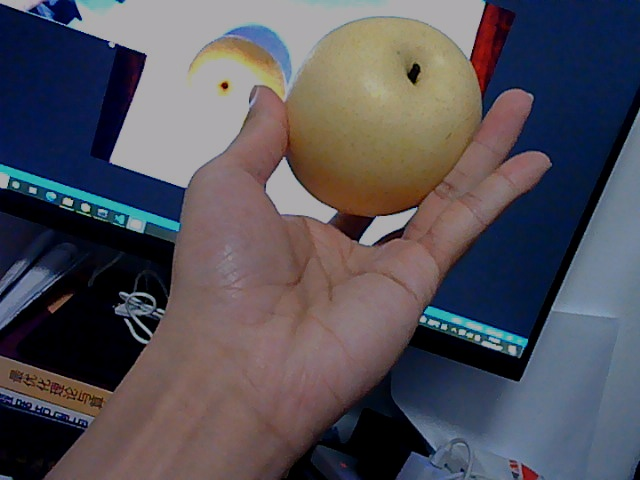pear: (276, 17, 485, 206)
